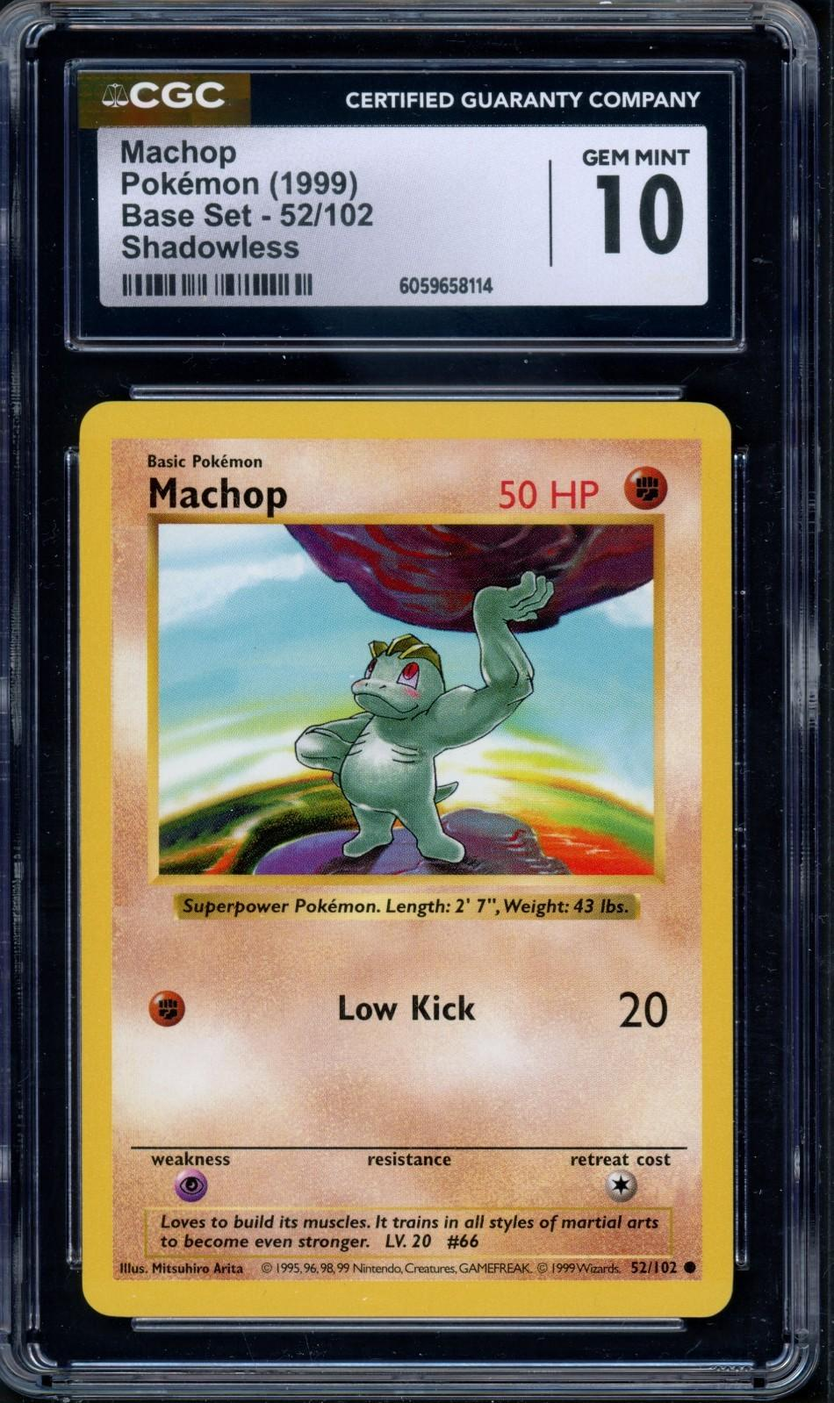card-2UtV: (79, 401, 733, 1318)
